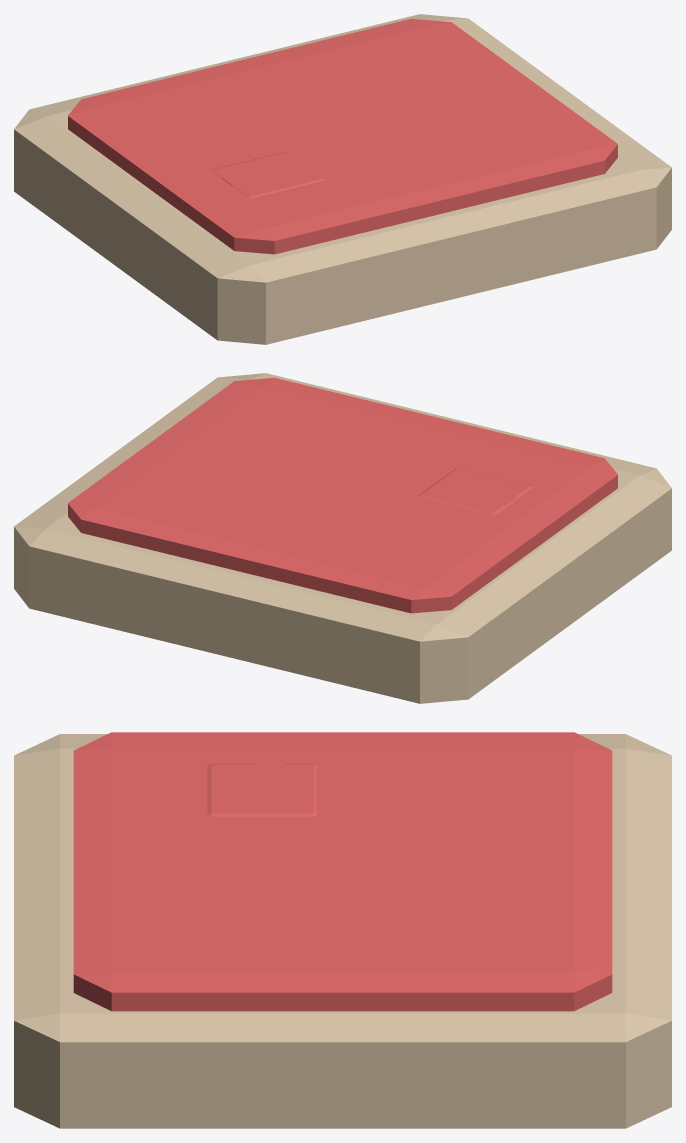
The model's file is b16_soft_street_pretzel.glb.
3 renders of one model, top to bottom at view 1: azimuth 30°, elevation 25°; view 2: azimuth 150°, elevation 25°; view 3: azimuth 270°, elevation 25°, orthographic. The views are drawn at different scales.
Visible parts, largest first — view 1: b16_soft_street_pretzel; view 2: b16_soft_street_pretzel; view 3: b16_soft_street_pretzel.
Part boxes in pixels (x1=…): b16_soft_street_pretzel: x1=14, y1=14, x2=671, y2=344; b16_soft_street_pretzel: x1=14, y1=373, x2=671, y2=703; b16_soft_street_pretzel: x1=14, y1=732, x2=671, y2=1128.
Bounding box in the file's own units: 0.184 × 0.034 × 0.166.
